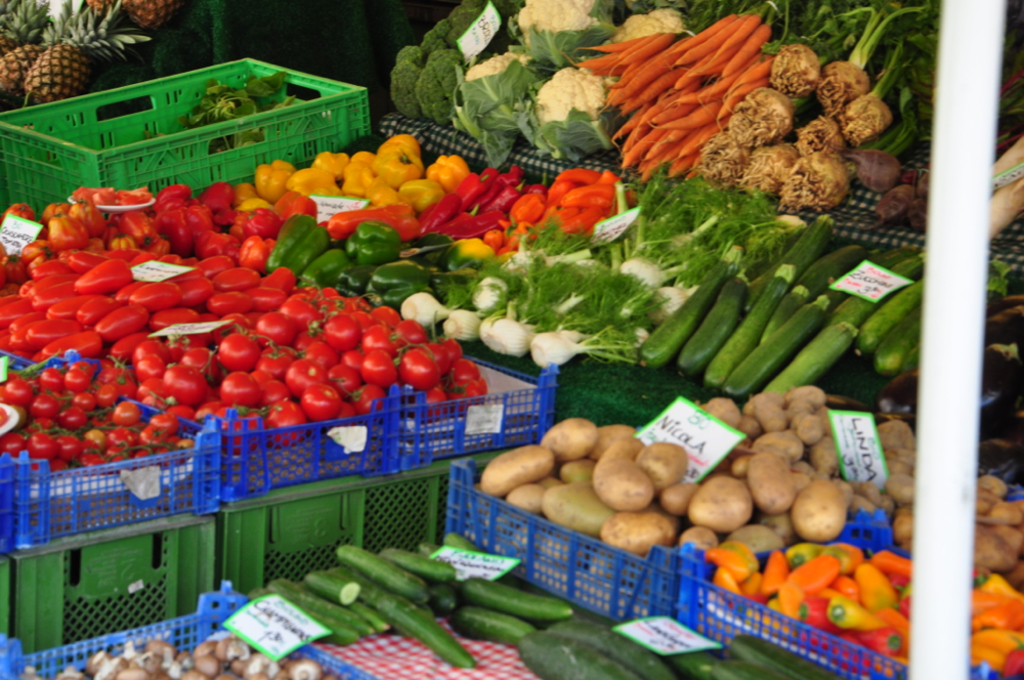Carrot: (567, 34, 769, 177), (693, 9, 764, 70)
